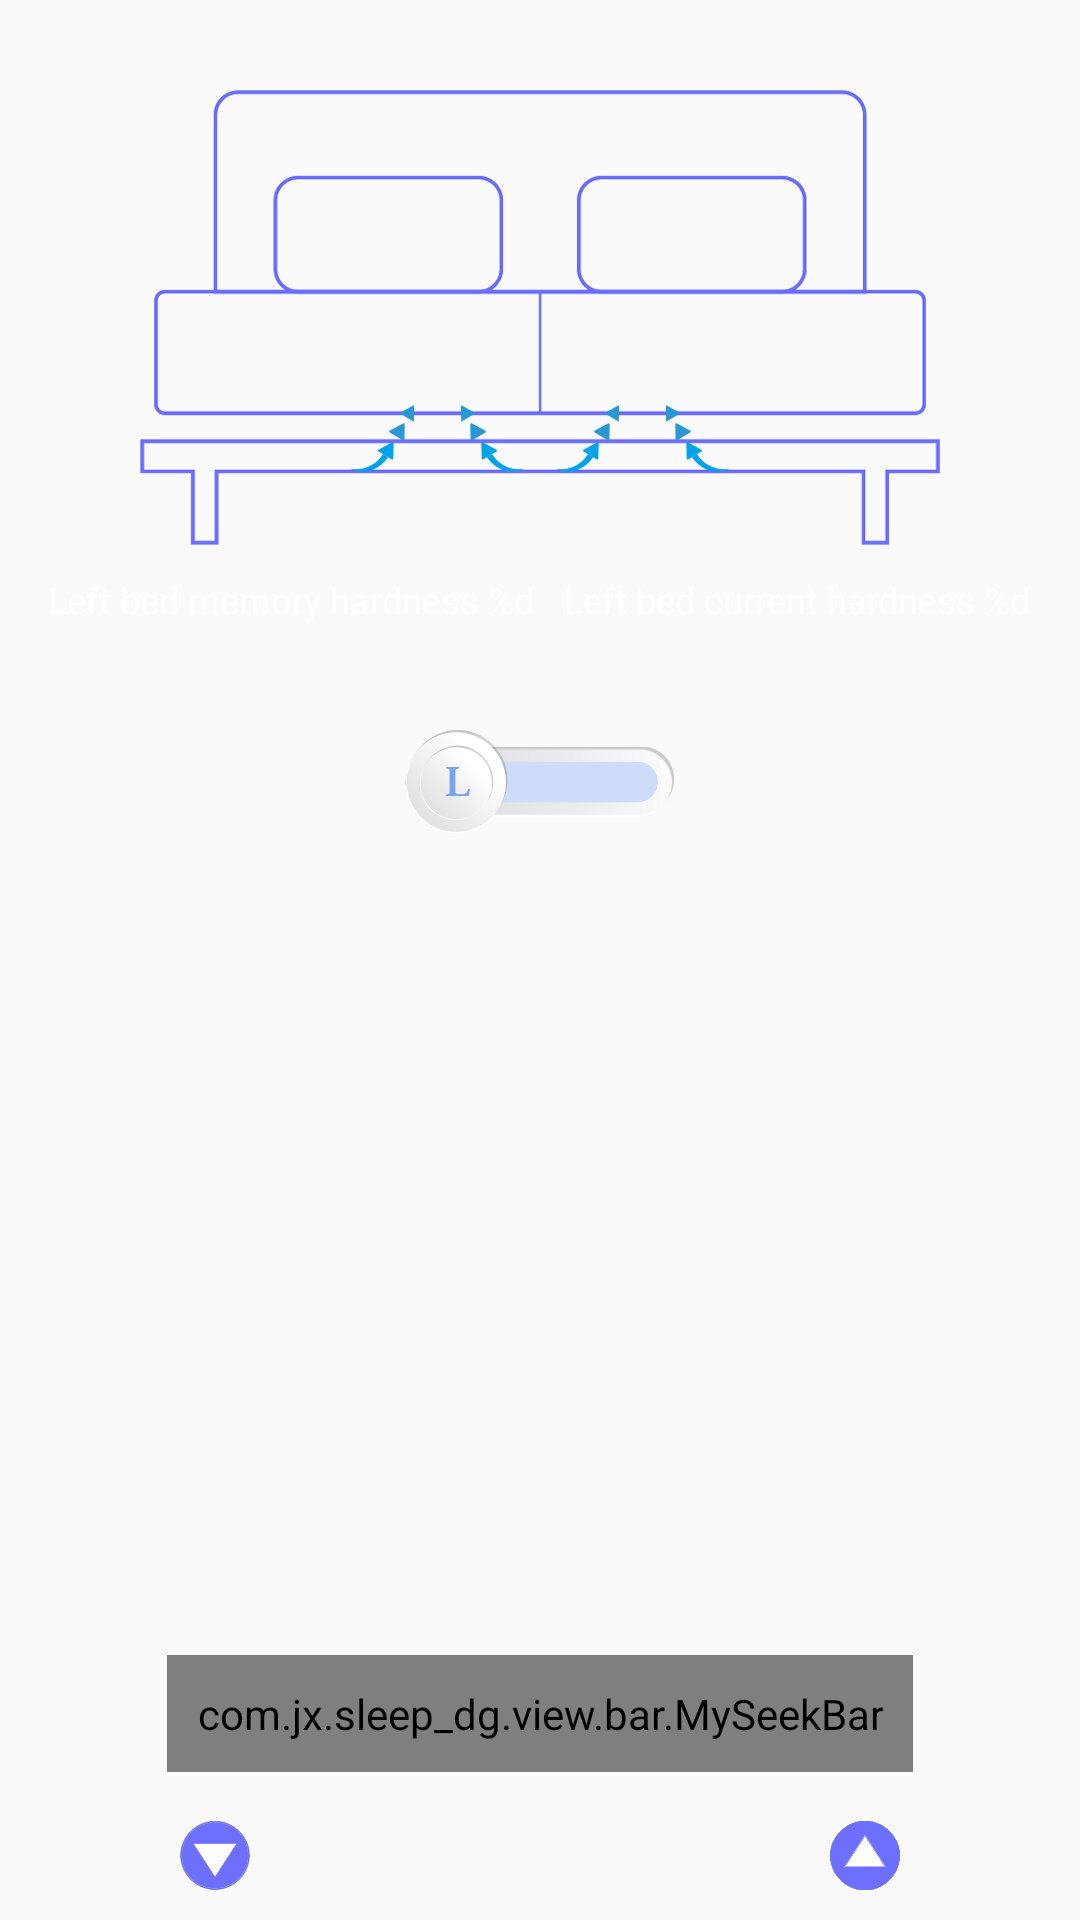

Icons on this 1080w x 1920h Android screen, each with its box as {"x1": x1, "y1": y1, "x2": x2, "y2": y2}:
add: {"x1": 830, "y1": 1821, "x2": 900, "y2": 1890}
reduce: {"x1": 180, "y1": 1821, "x2": 250, "y2": 1890}
